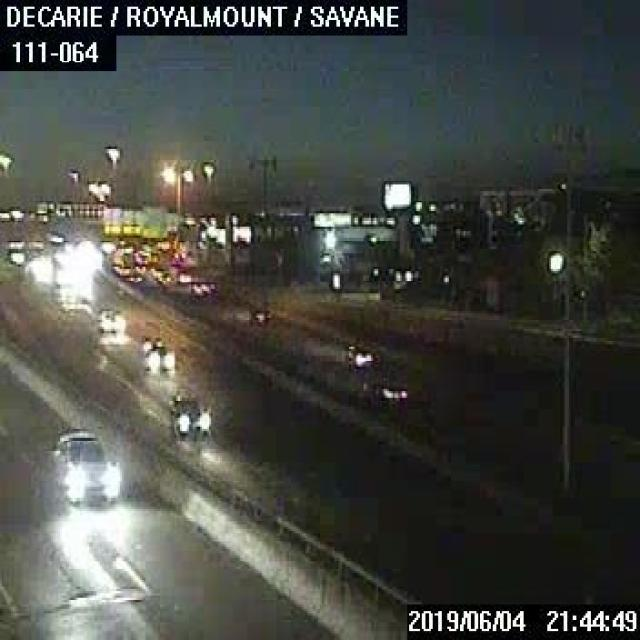vehicle: (49, 424, 118, 500), (166, 384, 209, 438), (357, 373, 408, 407), (344, 340, 376, 369), (143, 348, 171, 371), (98, 307, 121, 331), (140, 335, 160, 354)
